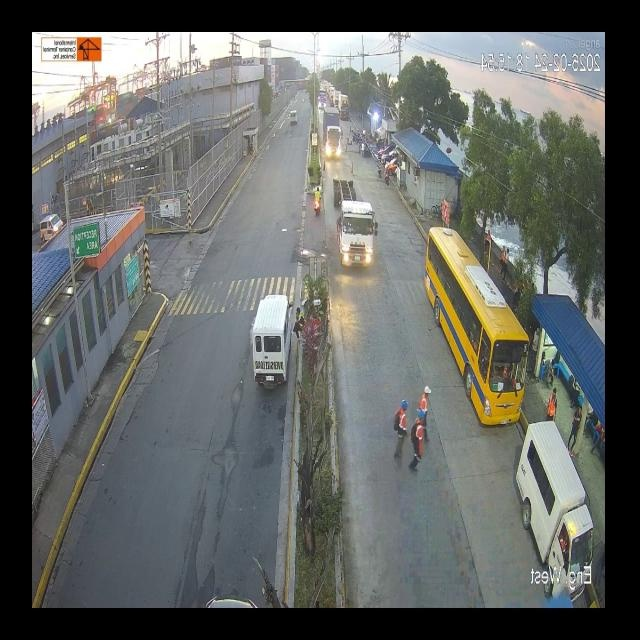bus: (421, 242, 518, 425)
car: (505, 436, 589, 574), (238, 288, 294, 381), (287, 109, 298, 128)
truck: (327, 169, 383, 277), (318, 106, 342, 164), (337, 89, 351, 123)
